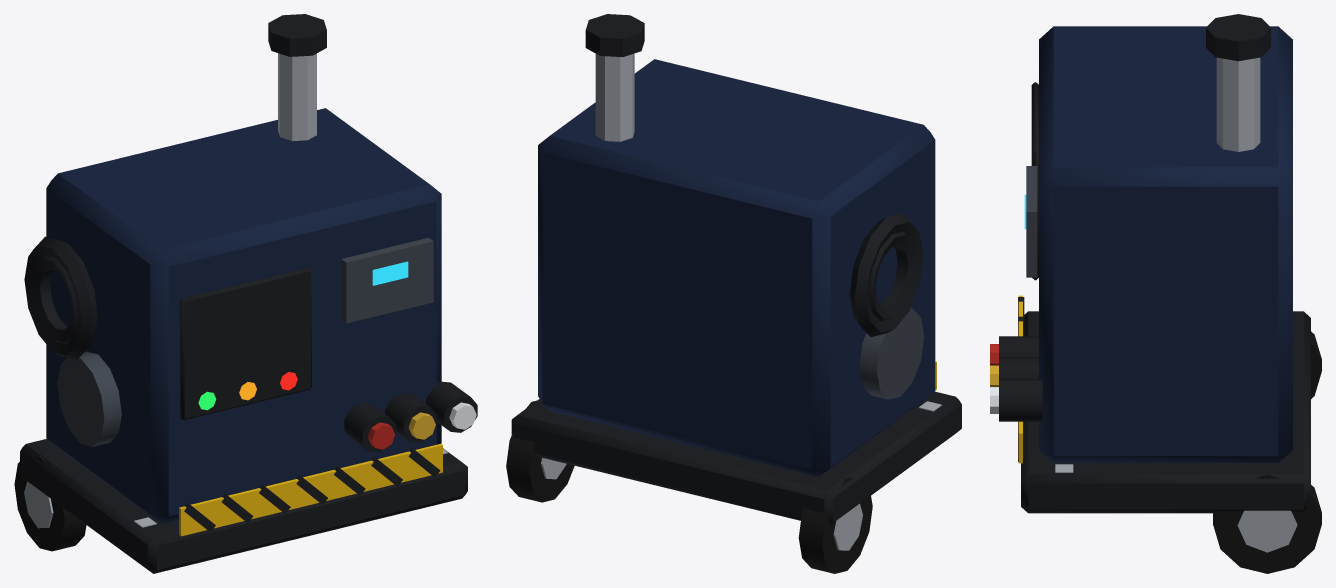
File: hangartool_ground_power_unit.glb
The picture shows the model from 3 angles, left to right: view 1: azimuth 30°, elevation 25°; view 2: azimuth 150°, elevation 25°; view 3: azimuth 270°, elevation 25°; orthographic projection. The views are drawn at different scales.
Visible parts, largest first — view 1: hangartool_ground_power_unit; view 2: hangartool_ground_power_unit; view 3: hangartool_ground_power_unit.
Part boxes in pixels (<box>): hangartool_ground_power_unit: <box>14,14,477,573</box>; hangartool_ground_power_unit: <box>506,14,961,573</box>; hangartool_ground_power_unit: <box>990,14,1321,573</box>.
Size of the model in its own units: 1.15 by 1.55 by 0.915.
